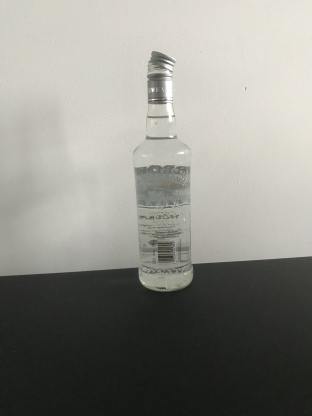nakretka: (145, 48, 177, 104)
